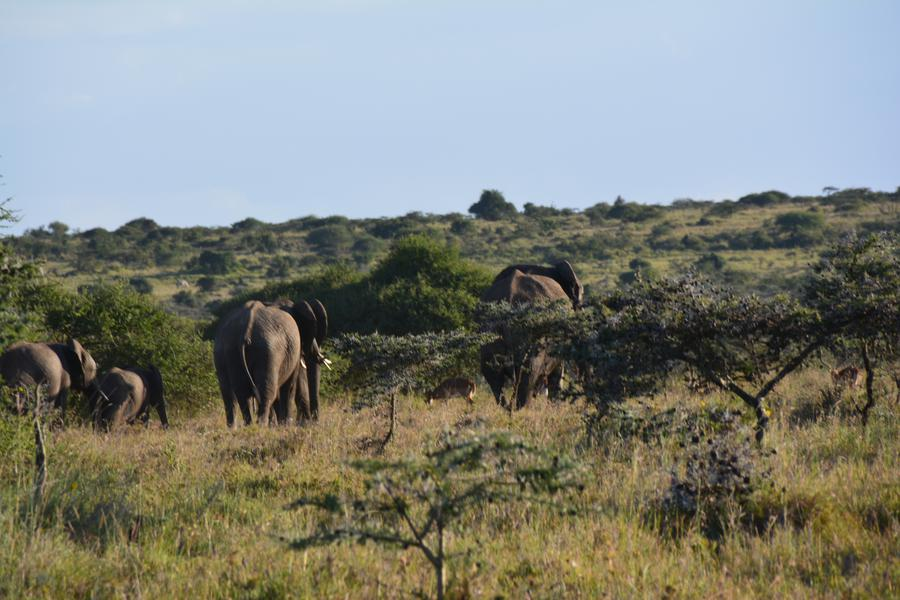elephant: (212, 292, 327, 420), (487, 258, 579, 396), (2, 335, 101, 412), (89, 362, 165, 428)
